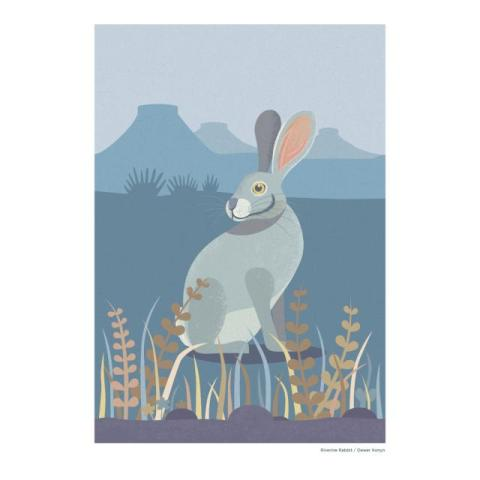small_animal: (172, 107, 319, 361)
